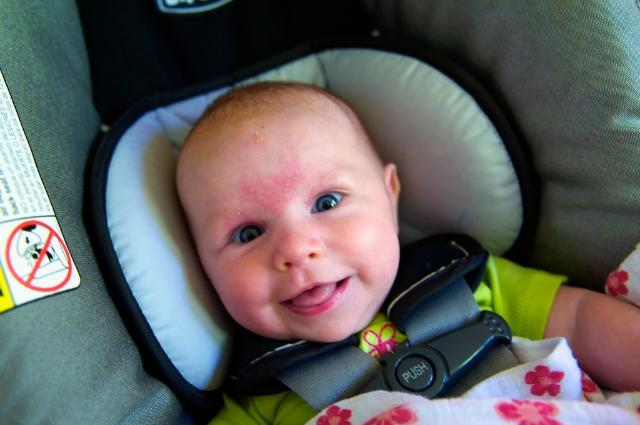SafeDriving: (220, 210, 280, 258), (302, 178, 358, 224)
Seatbelt: (217, 227, 525, 409)
